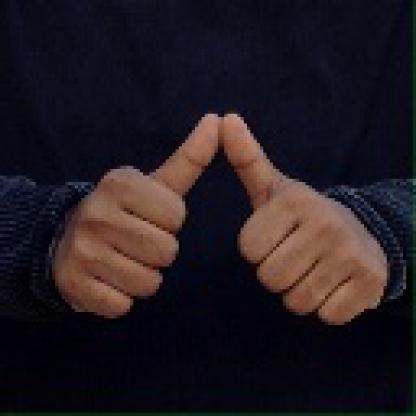A: (59, 105, 378, 325)
